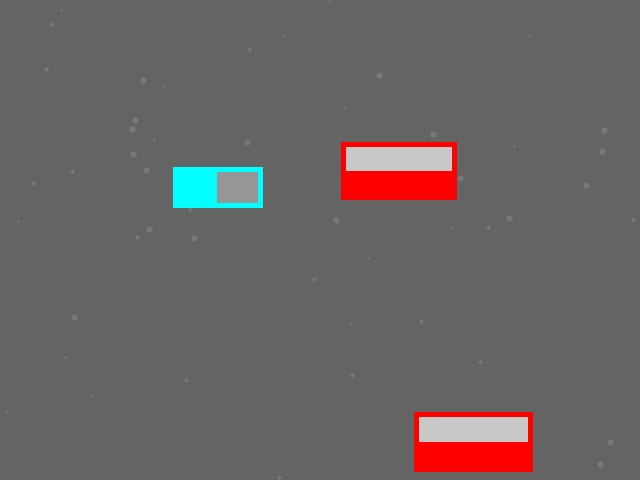car: (414, 412, 532, 471), (341, 142, 456, 199)
truck: (173, 167, 262, 207)
